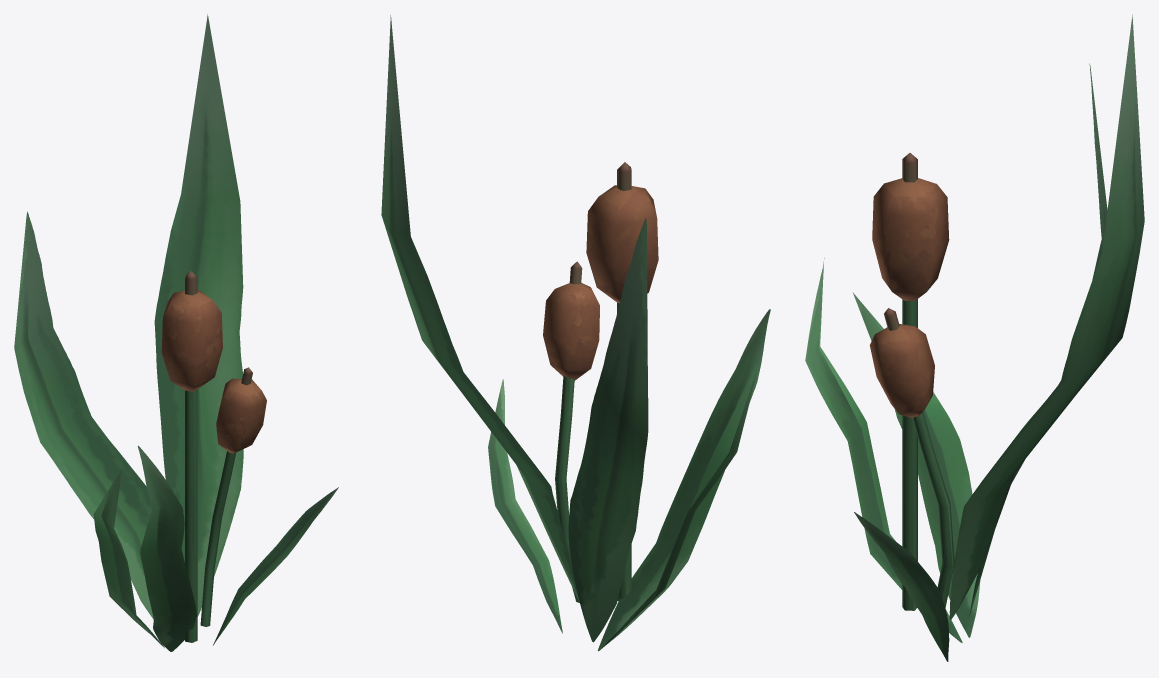
Rendered from SM_Reed_02.fbx.
The picture shows the model from 3 angles, left to right: view 1: azimuth 30°, elevation 25°; view 2: azimuth 150°, elevation 25°; view 3: azimuth 270°, elevation 25°; orthographic projection. The views are drawn at different scales.
Parts seen in each view (by area): view 1: polySurface12; view 2: polySurface12; view 3: polySurface12.
Part boxes in pixels (box(x1,y1,x2,y2)): polySurface12: box(14, 14, 338, 651); polySurface12: box(381, 15, 770, 651); polySurface12: box(805, 14, 1144, 661).
Size of the model in its own units: 63.2 by 151 by 66.03.
